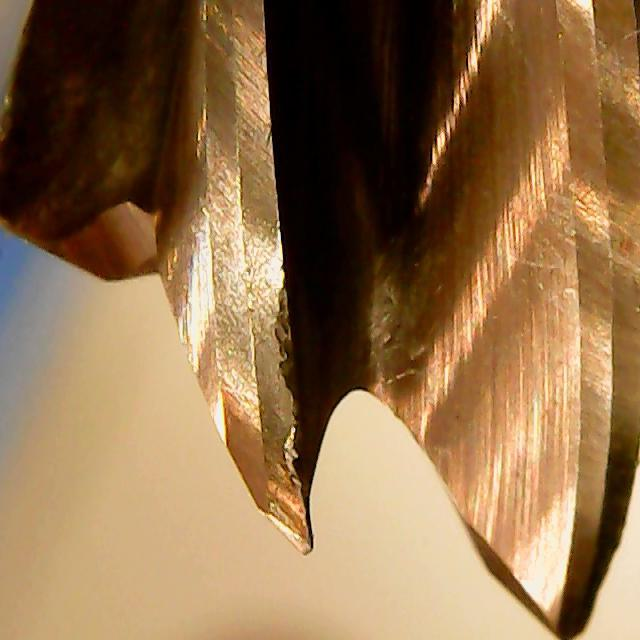Tool-wear-class-1: (175, 278, 346, 562)
